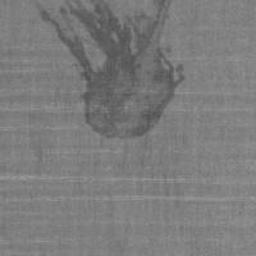Water spot: (28, 0, 189, 142)
